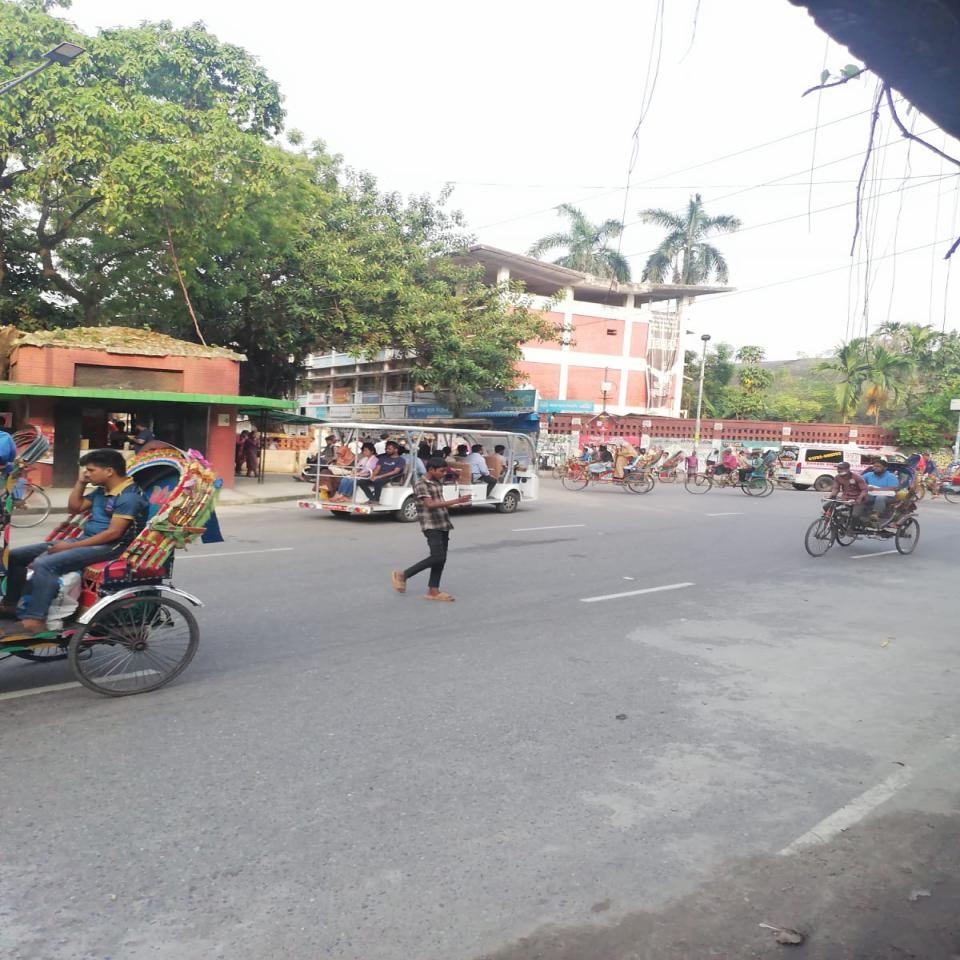person: (391, 458, 472, 603)
